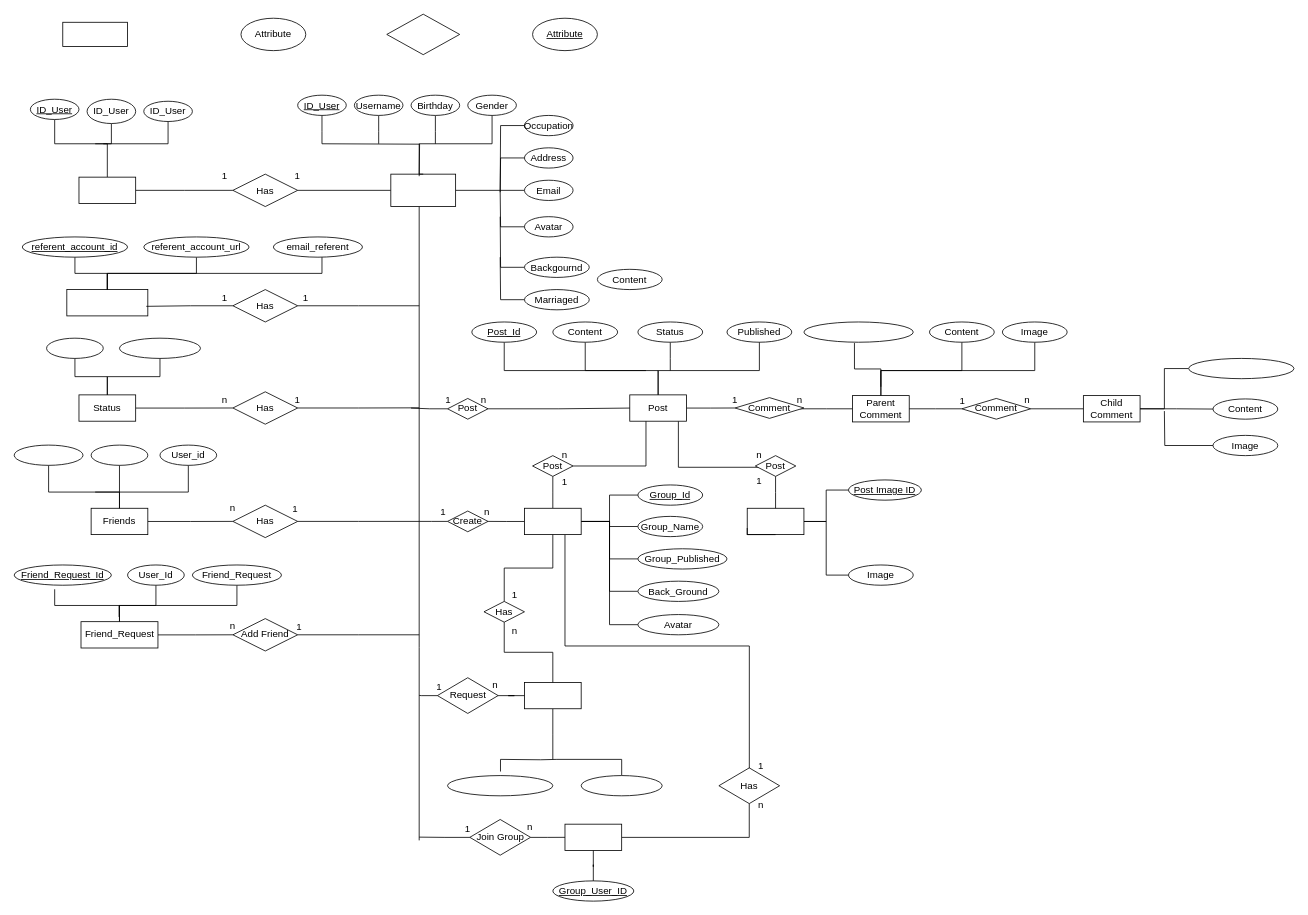
Image size: 1308x915. Some labels were removed from this diagram. The centre of each missing label's shape, as x and y in pixels:
Account: pixel 107 189
Child_Comment_ID: pixel 1241 368
Entity: pixel 95 34
Friend_id: pixel 119 454
Friends_id: pixel 48 454
From: pixel 621 785
Group: pixel 552 521
Group Request: pixel 552 695
Group User: pixel 593 836
Group_Request_Id: pixel 500 785
Parent_Comment_Id: pixel 858 331
Post Image: pixel 775 521
referent_account: pixel 107 302
Relationship: pixel 423 34
Status_ID: pixel 74 347
Status_name: pixel 159 347
User: pixel 423 190
